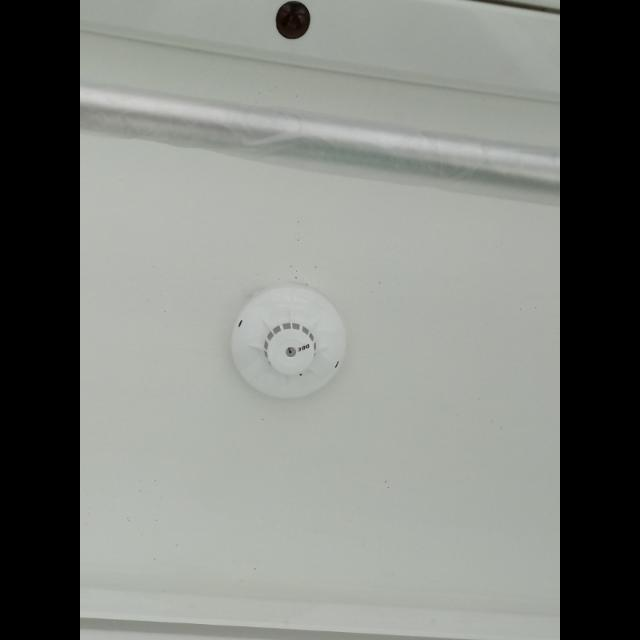Smoke-Detector: (232, 284, 346, 398)
